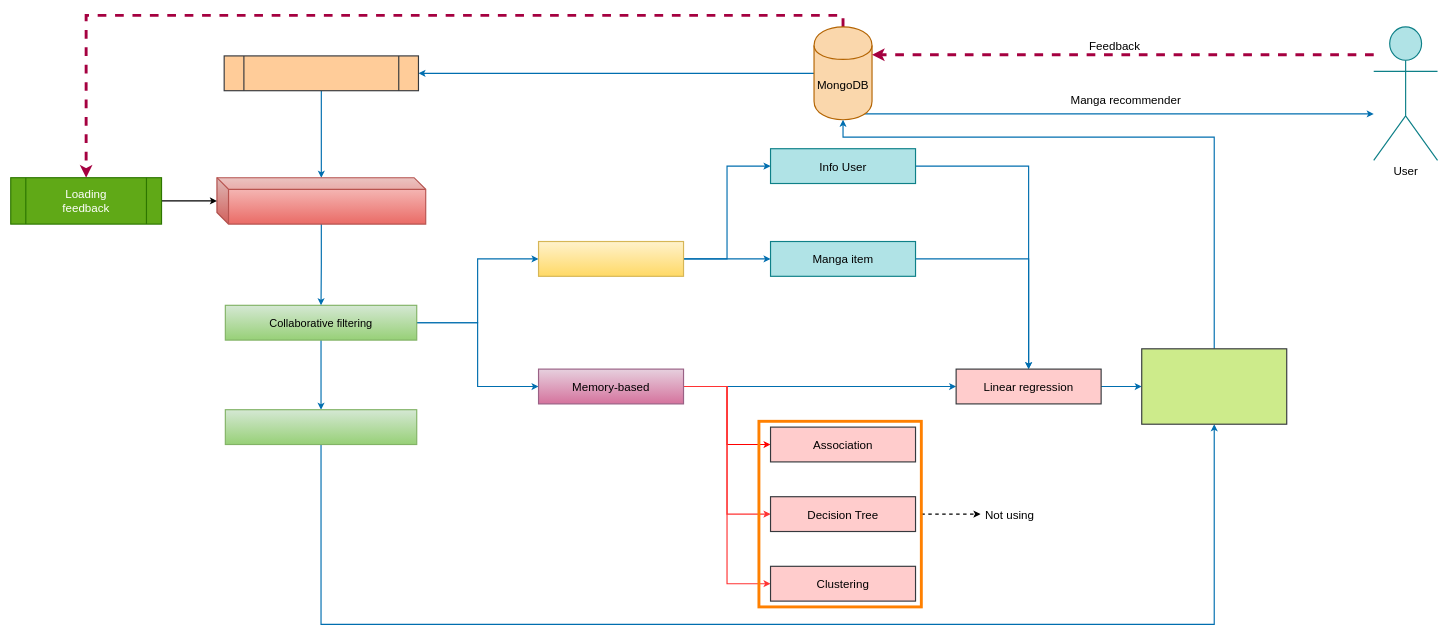
Some shapes in this 1448 by 640 pixel diagram are drawn without their labels. Here are the shapes that lost their labels. From the top down, the box of each, then its label:
(223, 55, 419, 91): Loading history reading
(216, 177, 426, 224): Recommender systems
(538, 241, 684, 277): Model-based
(1141, 348, 1287, 425): Result Manga and User Recommender.
(224, 409, 417, 445): Cosine similarity
